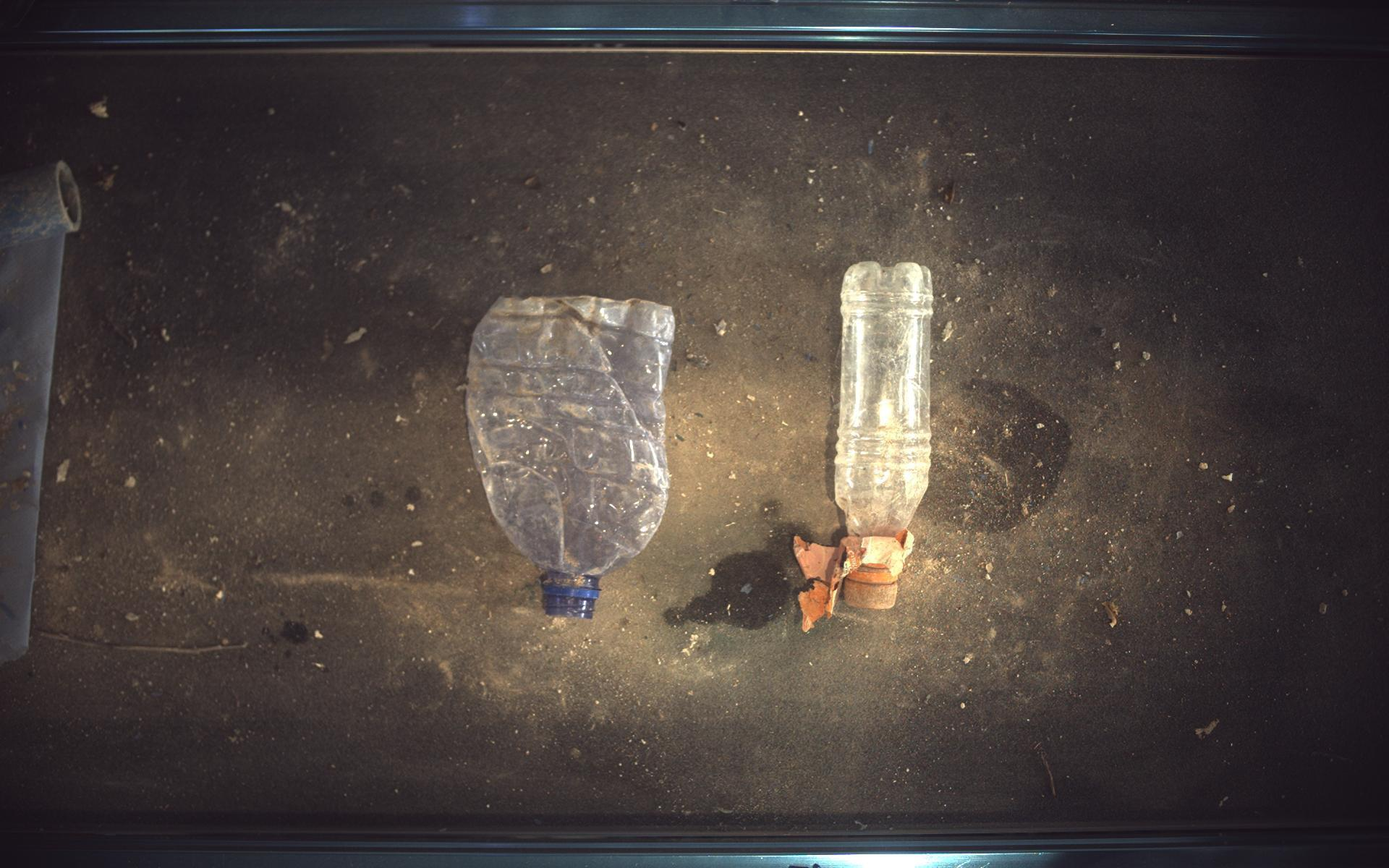general_w: (466, 296, 676, 619), (796, 262, 935, 633)
pipes: (1, 160, 80, 249)
